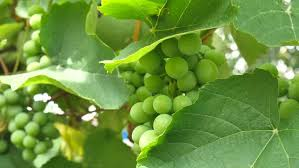grapes: (128, 46, 216, 156), (4, 87, 58, 162)
